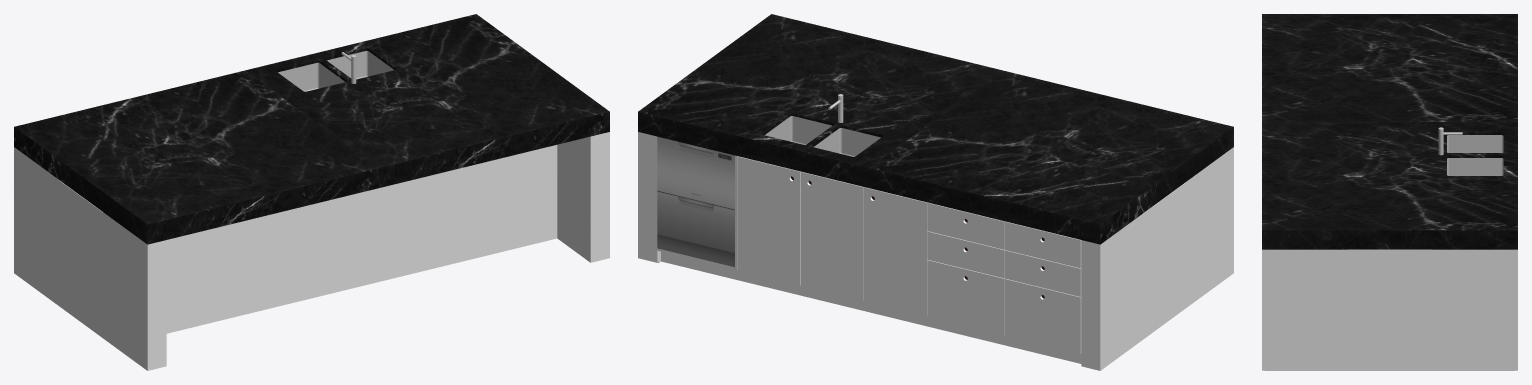
The model's file is kitchen-island.glb.
The picture shows the model from 3 angles, left to right: view 1: azimuth 30°, elevation 25°; view 2: azimuth 150°, elevation 25°; view 3: azimuth 270°, elevation 25°; orthographic projection. The views are drawn at different scales.
Visible parts, largest first — view 1: Material2 (×3); view 2: Material2 (×4); view 3: Material2 (×3).
Part boxes in pixels (x1,y1,x2,y2): Material2 (×3): (14, 14, 609, 370); Material2 (×4): (638, 14, 1233, 370); Material2 (×3): (1262, 14, 1517, 370).
Bounding box in the file's own units: 142 × 51.18 × 70.87.
Materials: 6 (2 with a texture image).
